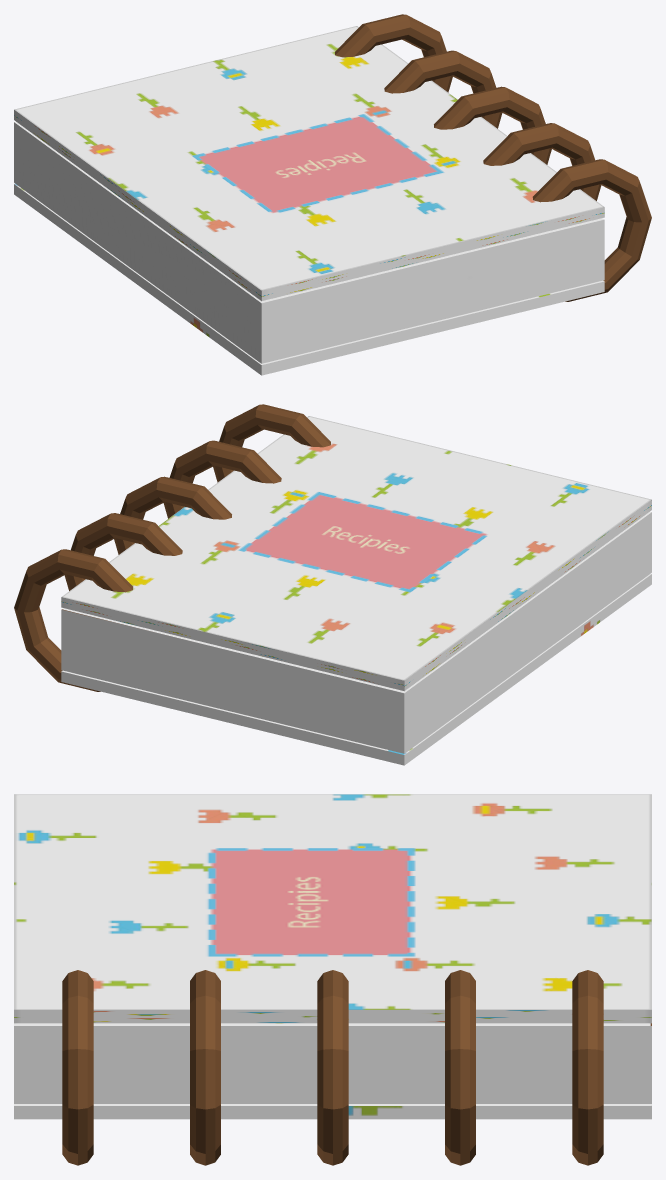
File: notebook2.fbx
The picture shows the model from 3 angles, top to bottom: view 1: azimuth 30°, elevation 25°; view 2: azimuth 150°, elevation 25°; view 3: azimuth 270°, elevation 25°; orthographic projection. The views are drawn at different scales.
Visible parts, largest first — view 1: Notebook_Cover, Notebook; view 2: Notebook_Cover, Notebook; view 3: Notebook_Cover, Notebook.
Part boxes in pixels (box(x1,y1,x2,y2)): Notebook_Cover: box(14, 26, 604, 301); Notebook: box(14, 14, 651, 375); Notebook_Cover: box(61, 416, 651, 691); Notebook: box(14, 404, 651, 765); Notebook_Cover: box(14, 794, 651, 1023); Notebook: box(14, 970, 651, 1165).
Bounding box in the file's own units: 4.83 × 1.47 × 5.
2 materials, 2 textured.
